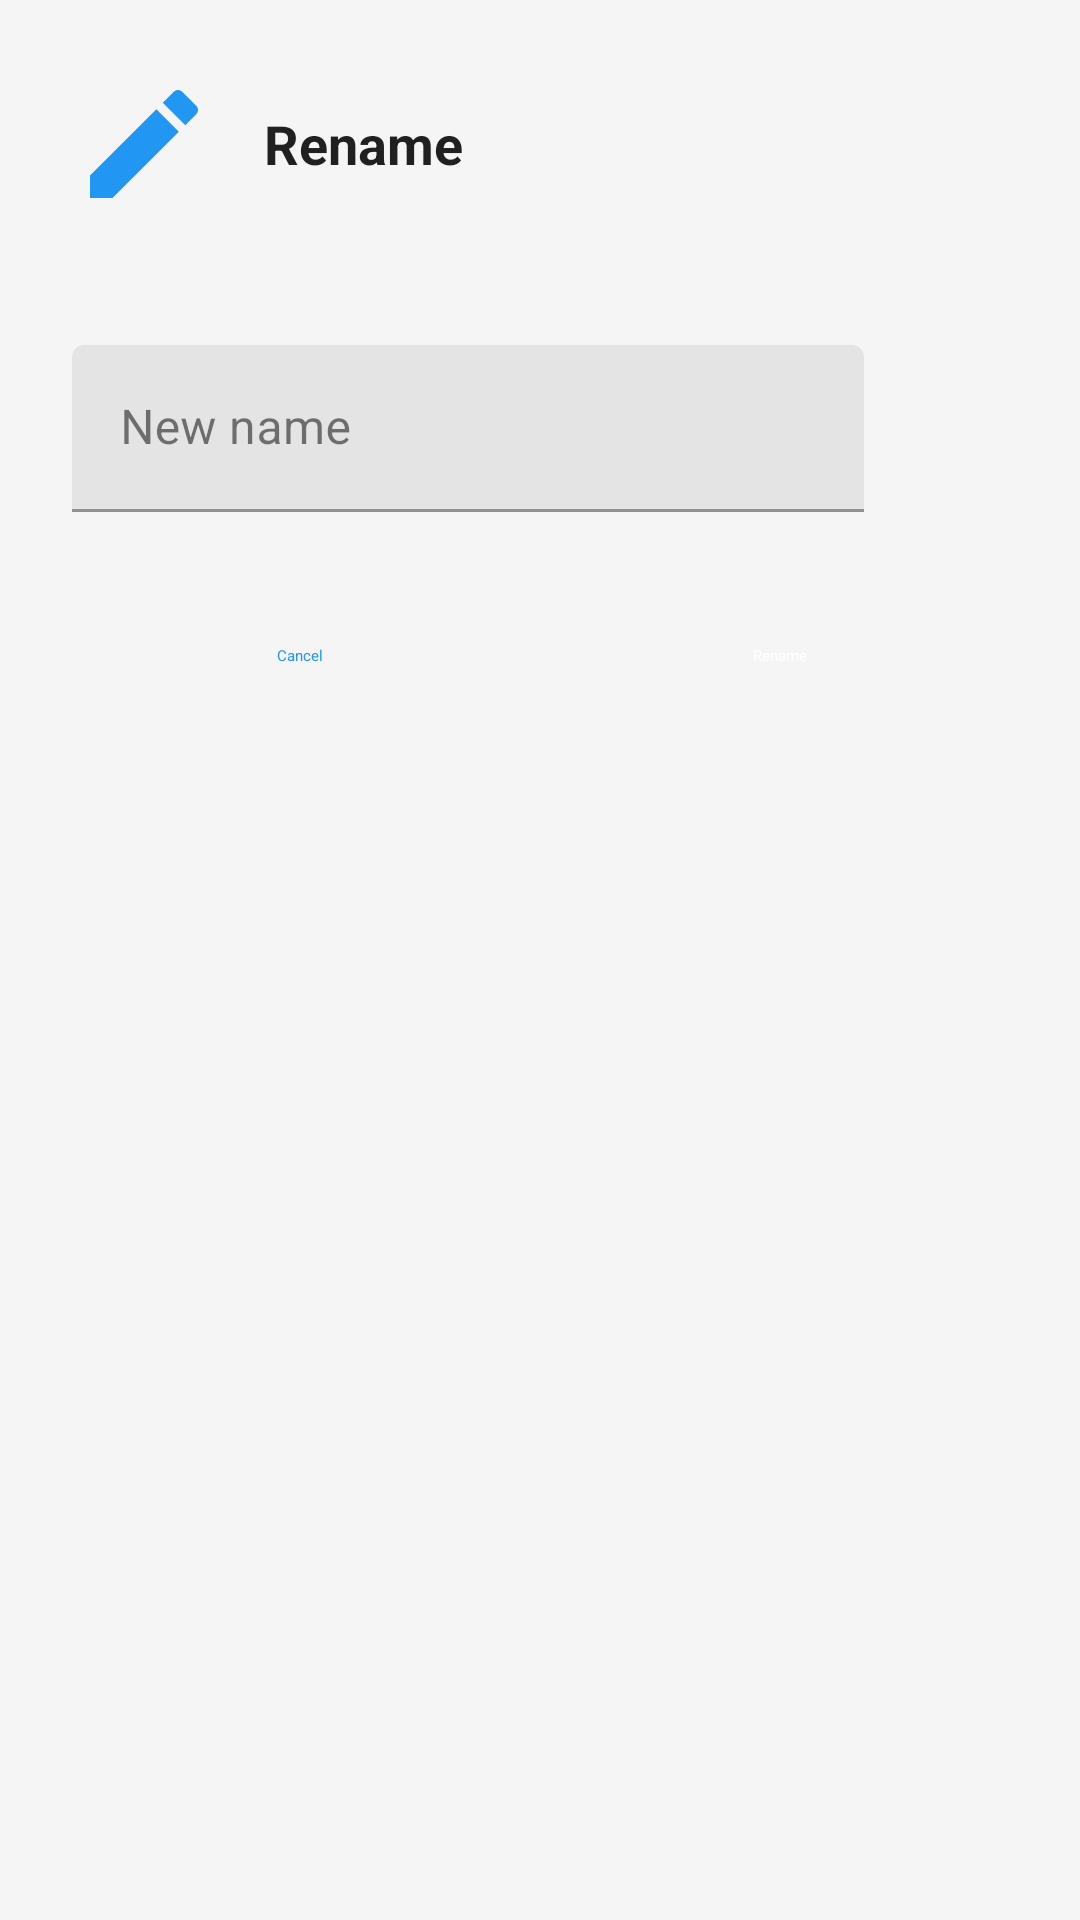

Where to tap for icons on this 1080w x 1920h app screen, as point (x, y):
edit: point (144, 144)
